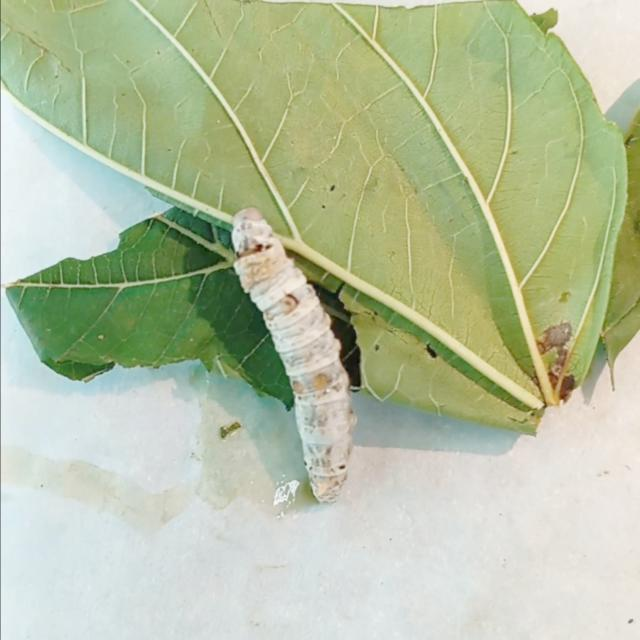Grasserie: (227, 202, 363, 511)
